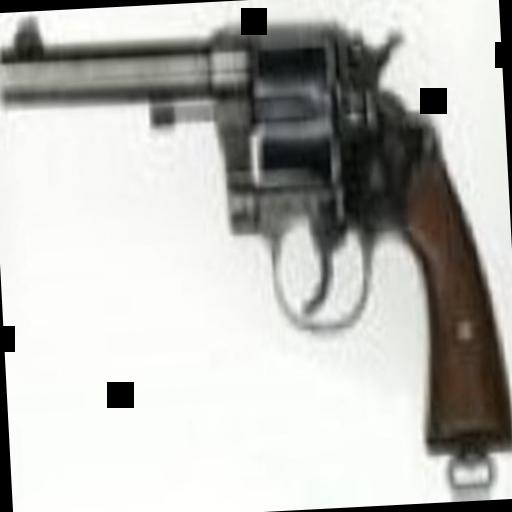Handgun: (0, 0, 511, 471)
